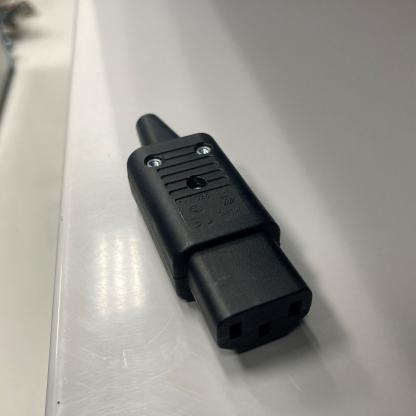SP0000006: (89, 65, 359, 411)
